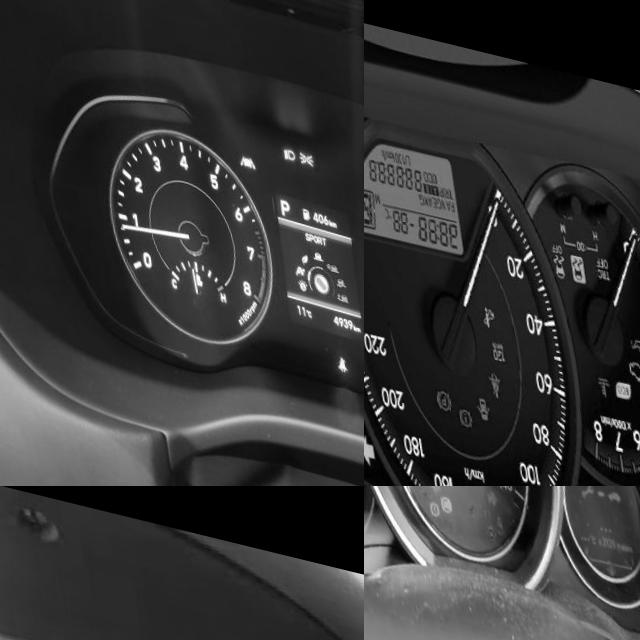High Engine Coolant Temperature: (586, 351, 601, 377)
Low beam: (275, 128, 289, 145)
Seat Belt: (479, 355, 491, 383)
SideLamp: (290, 131, 308, 148)
